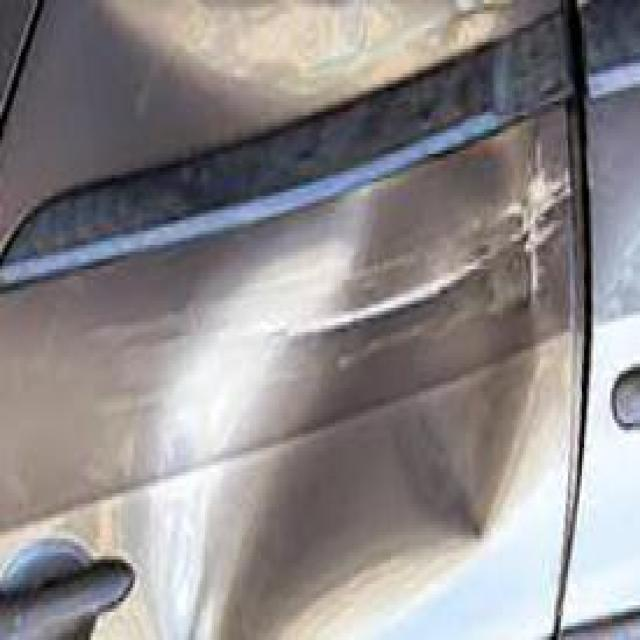dent: (157, 108, 553, 640)
